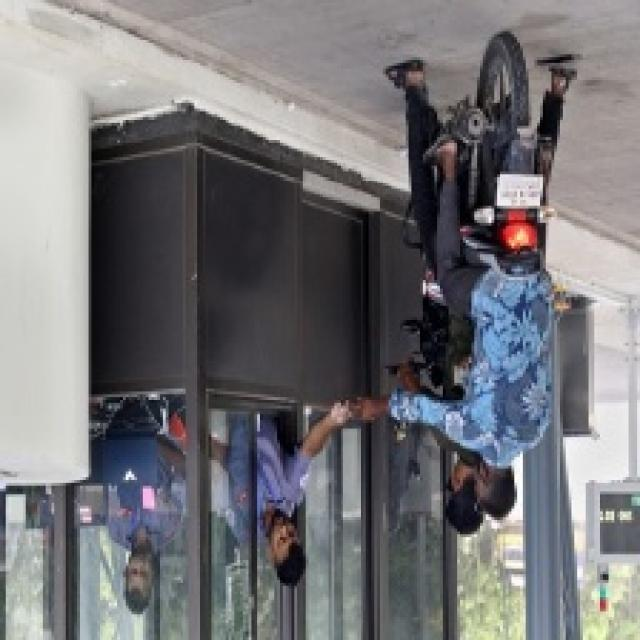bike: (413, 40, 535, 417)
